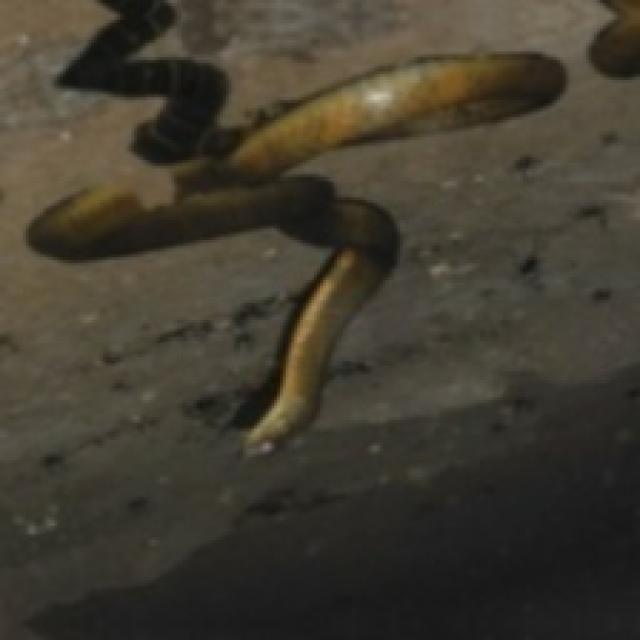king cobra: (26, 0, 563, 451)
